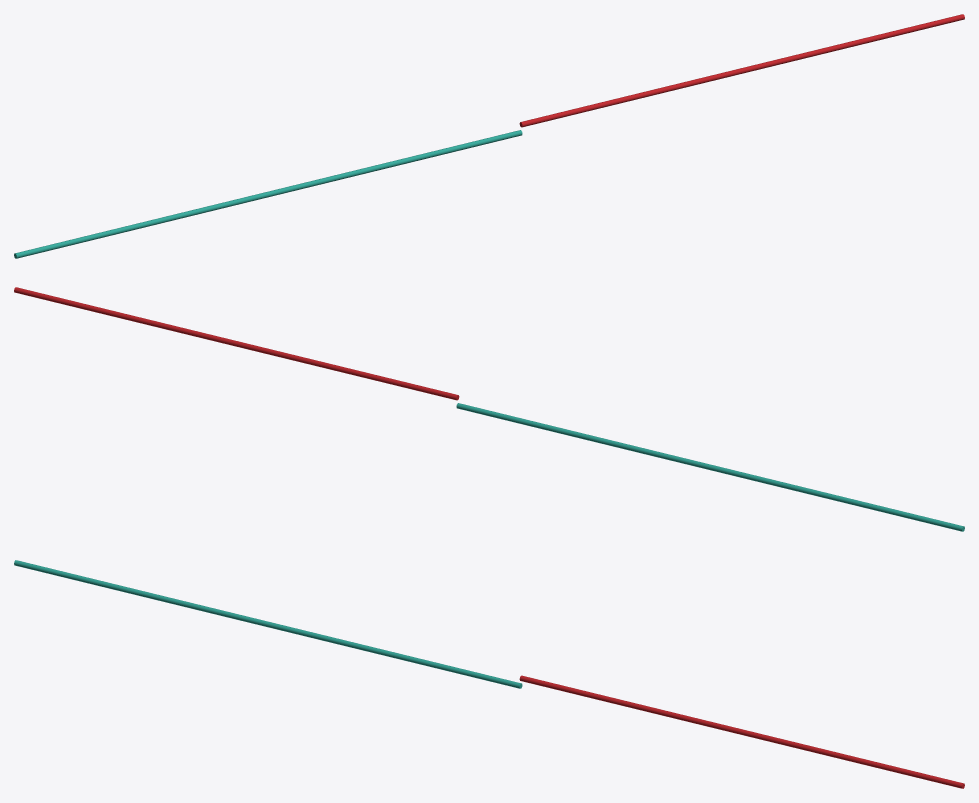
Rendered from shaft_alignment_system_pressure.glb.
3 renders of one model, top to bottom at view 1: azimuth 30°, elevation 25°; view 2: azimuth 150°, elevation 25°; view 3: azimuth 330°, elevation 25°, orthographic.
Parts seen in each view (by area): view 1: pressure__back; view 2: pressure__back; view 3: pressure__back.
Boxes of the visible parts, x1,y1,x2,y2 form: pressure__back: (14, 14, 964, 258); pressure__back: (14, 287, 964, 531); pressure__back: (14, 560, 964, 788).
Size of the model in its own units: 1.5 by 0.02 by 0.008.
